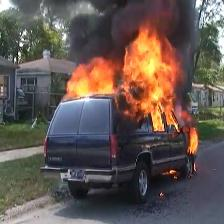fire: (63, 28, 201, 159)
